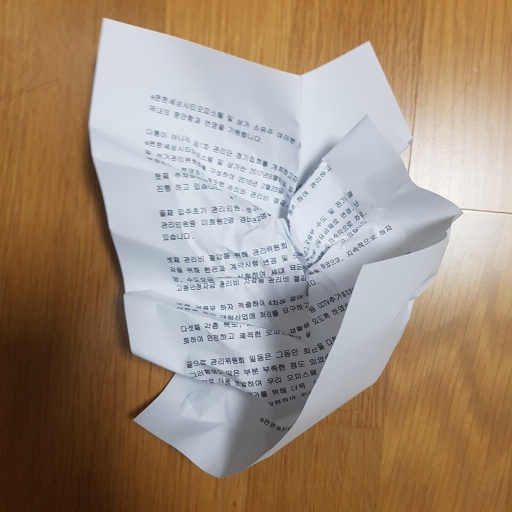Paper_3: (61, 10, 469, 495)
